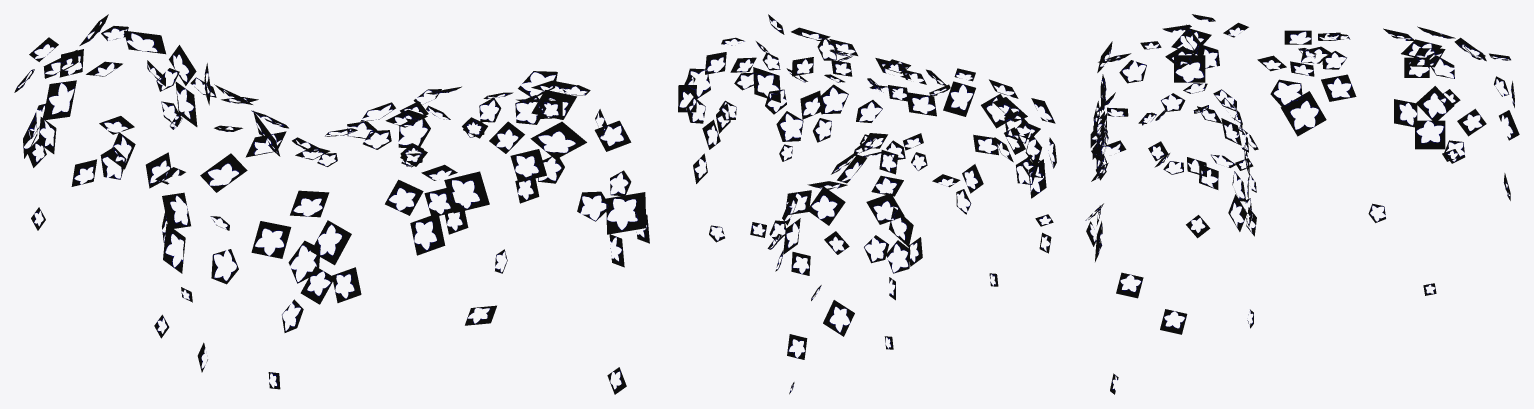
File: Homeworld_Exterior_Common_Flower_Decoration_Greenwall_02_B_Lod0.fbx
3 views of the same model, side by side, from view 1: azimuth 30°, elevation 25°; view 2: azimuth 150°, elevation 25°; view 3: azimuth 270°, elevation 25° (orthographic). The views are drawn at different scales.
Visible parts, largest first — view 1: Homeworld_Exterior_Common_Flower_Decoration_Greenwall_02_B_L; view 2: Homeworld_Exterior_Common_Flower_Decoration_Greenwall_02_B_L; view 3: Homeworld_Exterior_Common_Flower_Decoration_Greenwall_02_B_L.
Boxes of the visible parts, left/top/right/bottom form: Homeworld_Exterior_Common_Flower_Decoration_Greenwall_02_B_L: left=14, top=14, right=649, bottom=394; Homeworld_Exterior_Common_Flower_Decoration_Greenwall_02_B_L: left=678, top=14, right=1056, bottom=394; Homeworld_Exterior_Common_Flower_Decoration_Greenwall_02_B_L: left=1085, top=14, right=1519, bottom=394.
Size of the model in its own units: 2.65 by 1.72 by 2.79.
